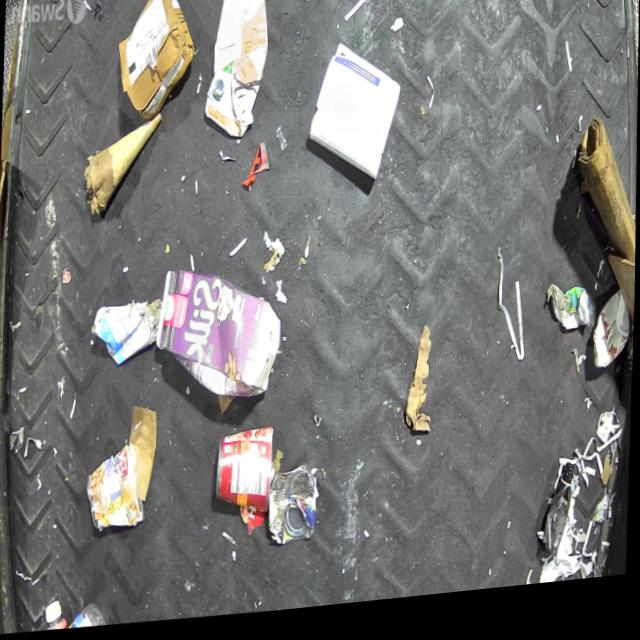can: (215, 428, 276, 522), (86, 444, 148, 534), (268, 466, 322, 553), (593, 299, 633, 386)
non_white_jug: (156, 264, 282, 414), (202, 0, 269, 143)
